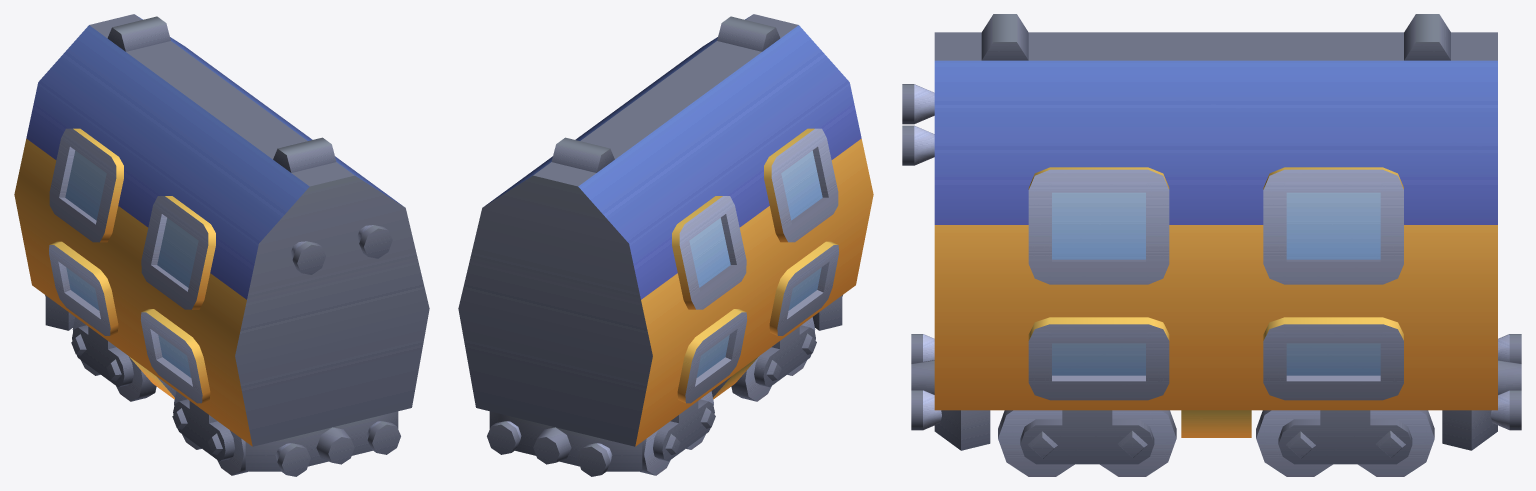
File: train-electric-double-b.glb
The picture shows the model from 3 angles, left to right: view 1: azimuth 30°, elevation 25°; view 2: azimuth 150°, elevation 25°; view 3: azimuth 270°, elevation 25°; orthographic projection. The views are drawn at different scales.
Parts seen in each view (by area): view 1: train-electric-double-b, wheels-back, wheels-front; view 2: train-electric-double-b, wheels-front, wheels-back; view 3: train-electric-double-b, wheels-back, wheels-front.
Boxes of the visible parts, x1,y1,x2,y2 form: train-electric-double-b: [14, 14, 429, 476]; wheels-back: [71, 317, 156, 401]; wheels-front: [172, 391, 247, 475]; train-electric-double-b: [458, 14, 873, 476]; wheels-front: [731, 317, 816, 401]; wheels-back: [640, 391, 715, 475]; train-electric-double-b: [902, 14, 1521, 450]; wheels-back: [1256, 410, 1434, 476]; wheels-front: [998, 410, 1176, 476].
Bounding box in the file's own units: 1.29 × 1.92 × 2.64.
Materials: 1 (1 with a texture image).
